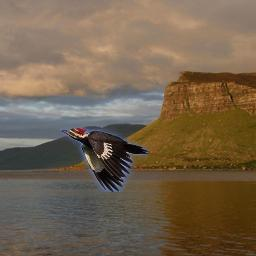Woodpecker: (60, 127, 148, 192)
